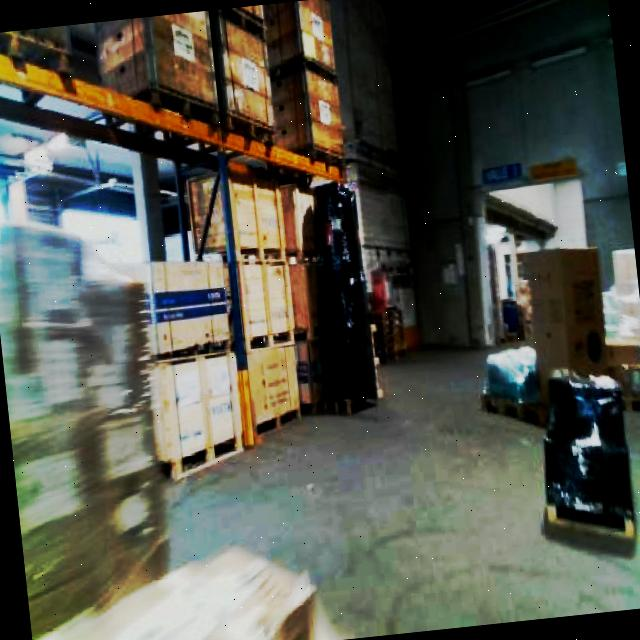ground: (141, 319, 640, 640)
pallet: (0, 204, 185, 640), (127, 158, 349, 481), (181, 165, 306, 448), (465, 238, 640, 434), (24, 535, 321, 640), (136, 251, 249, 481), (526, 361, 639, 552), (512, 240, 616, 422), (274, 175, 337, 413), (608, 245, 640, 413), (602, 331, 640, 415), (368, 304, 406, 364)
